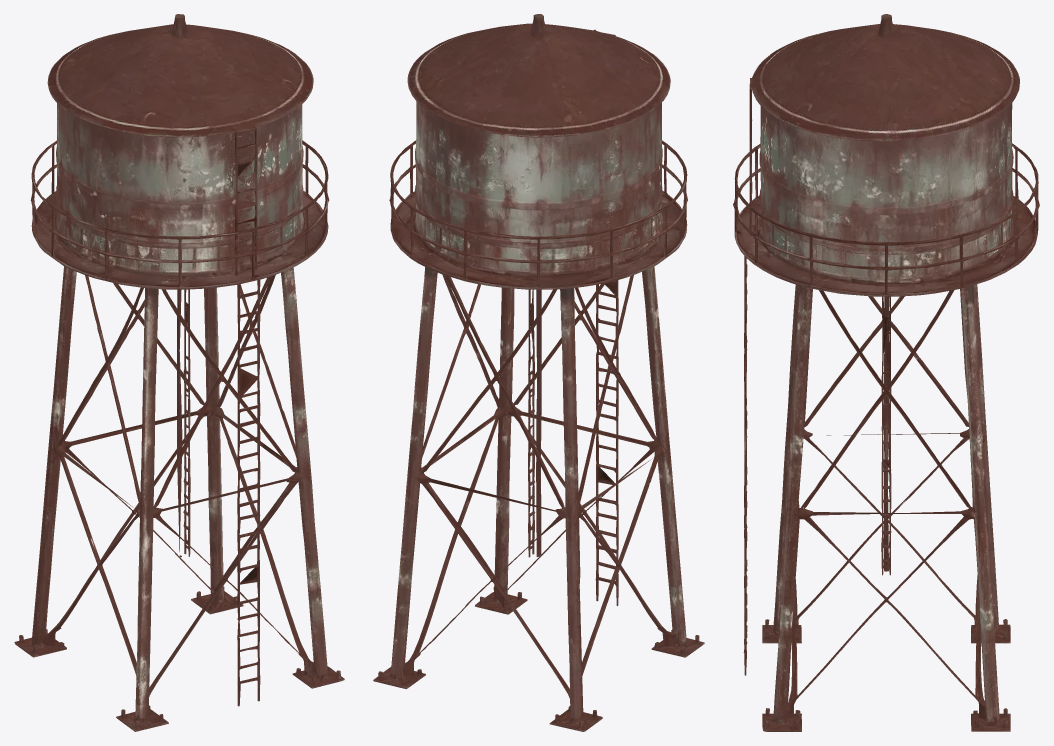
File: water_tower.glb
3 views of the same model, side by side, from view 1: azimuth 30°, elevation 25°; view 2: azimuth 150°, elevation 25°; view 3: azimuth 270°, elevation 25° (orthographic). The views are drawn at different scales.
Parts seen in each view (by area): view 1: Mesh_0; view 2: Mesh_0; view 3: Mesh_0.
Boxes of the visible parts, x1,y1,x2,y2 form: Mesh_0: (14,14,344,731); Mesh_0: (373,14,704,731); Mesh_0: (733,14,1039,731).
Size of the model in its own units: 0.7954 by 1.9 by 0.7958.
Materials: 1 (1 with a texture image).
